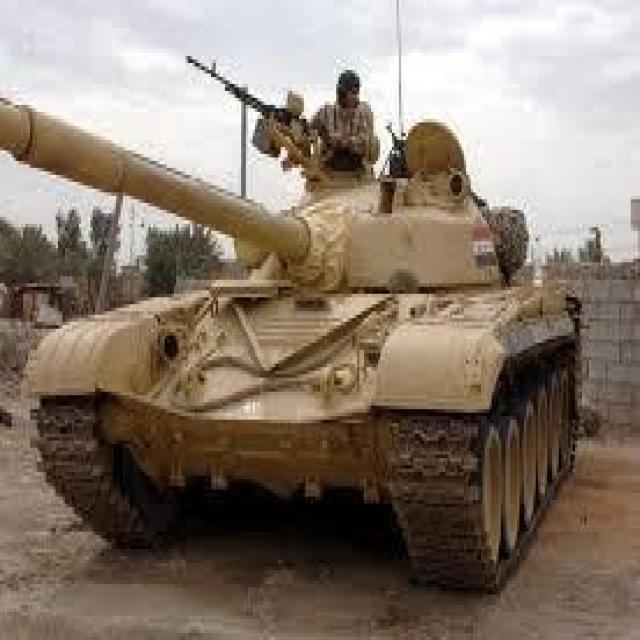Tanks: (1, 115, 567, 598)
